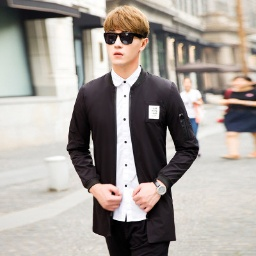face: (101, 4, 151, 67)
